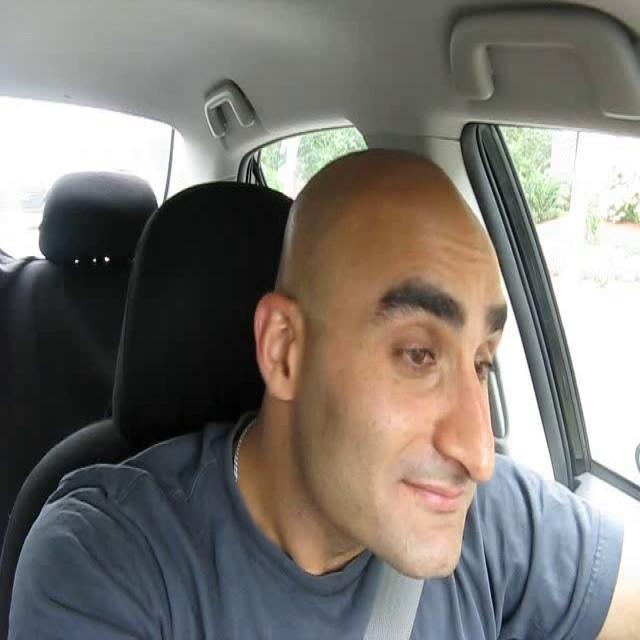close: (399, 478, 470, 520)
